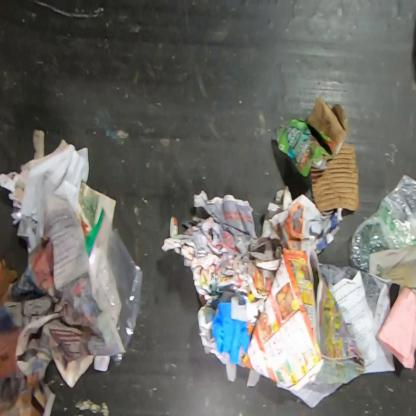cardboard: (275, 94, 349, 178), (309, 143, 361, 213), (0, 257, 20, 307)
soft_plastic: (84, 206, 143, 352), (349, 173, 415, 275), (112, 353, 126, 365)
